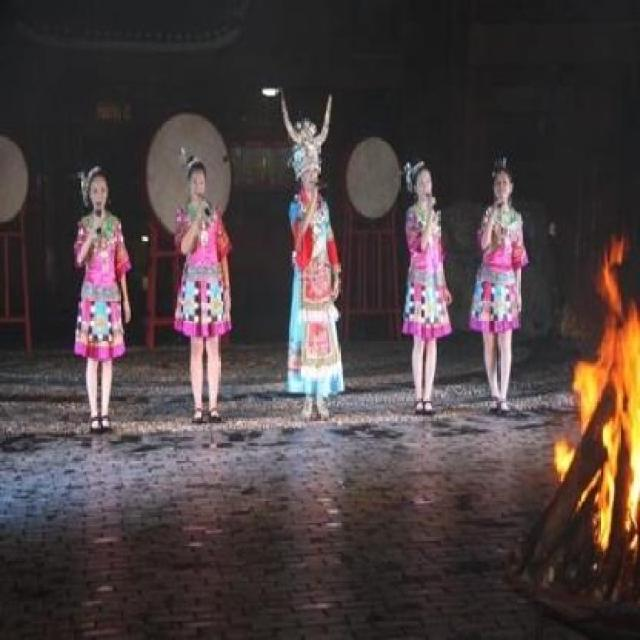Fire: (545, 224, 640, 564)
